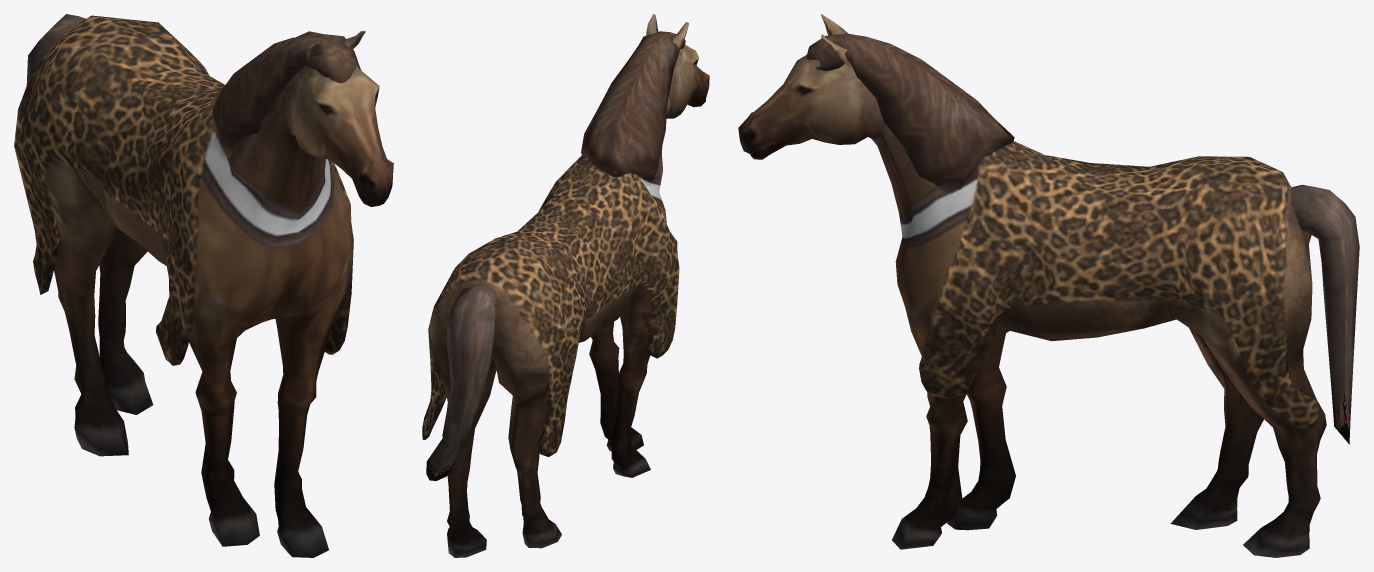
Rendered from body-base.glb.
The picture shows the model from 3 angles, left to right: view 1: azimuth 30°, elevation 25°; view 2: azimuth 150°, elevation 25°; view 3: azimuth 270°, elevation 25°; orthographic projection. The views are drawn at different scales.
Bounding box in the file's own units: 0.8223 × 2.51 × 2.77.
Materials: 1 (1 with a texture image).
